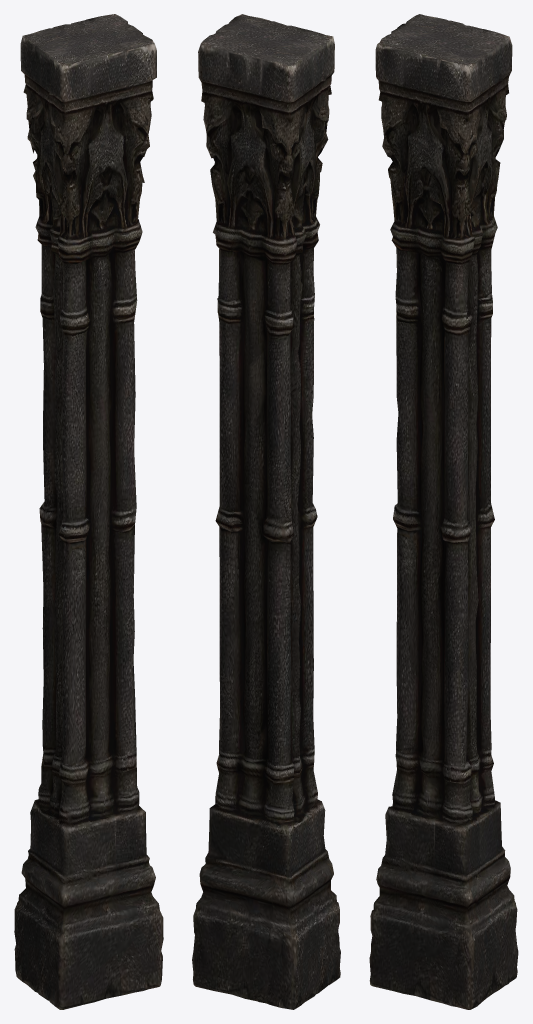
Rendered from jamb.glb.
The picture shows the model from 3 angles, left to right: view 1: azimuth 30°, elevation 25°; view 2: azimuth 150°, elevation 25°; view 3: azimuth 330°, elevation 25°; orthographic projection.
Parts seen in each view (by area): view 1: jamb; view 2: jamb; view 3: jamb.
Boxes of the visible parts, <box> form: jamb: <box>14,14,163,1009</box>; jamb: <box>192,14,340,1009</box>; jamb: <box>369,14,518,1009</box>.
Size of the model in its own units: 1 by 8.6 by 0.8.
Materials: 1 (1 with a texture image).
